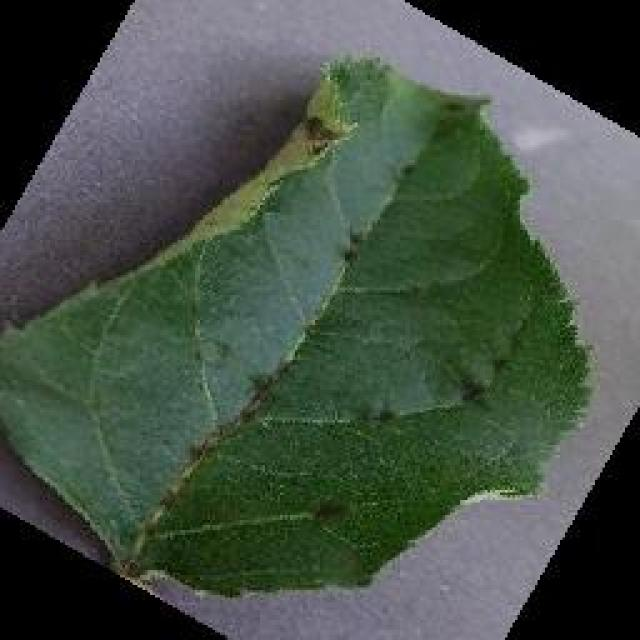apple scab disease: (0, 50, 598, 600)
